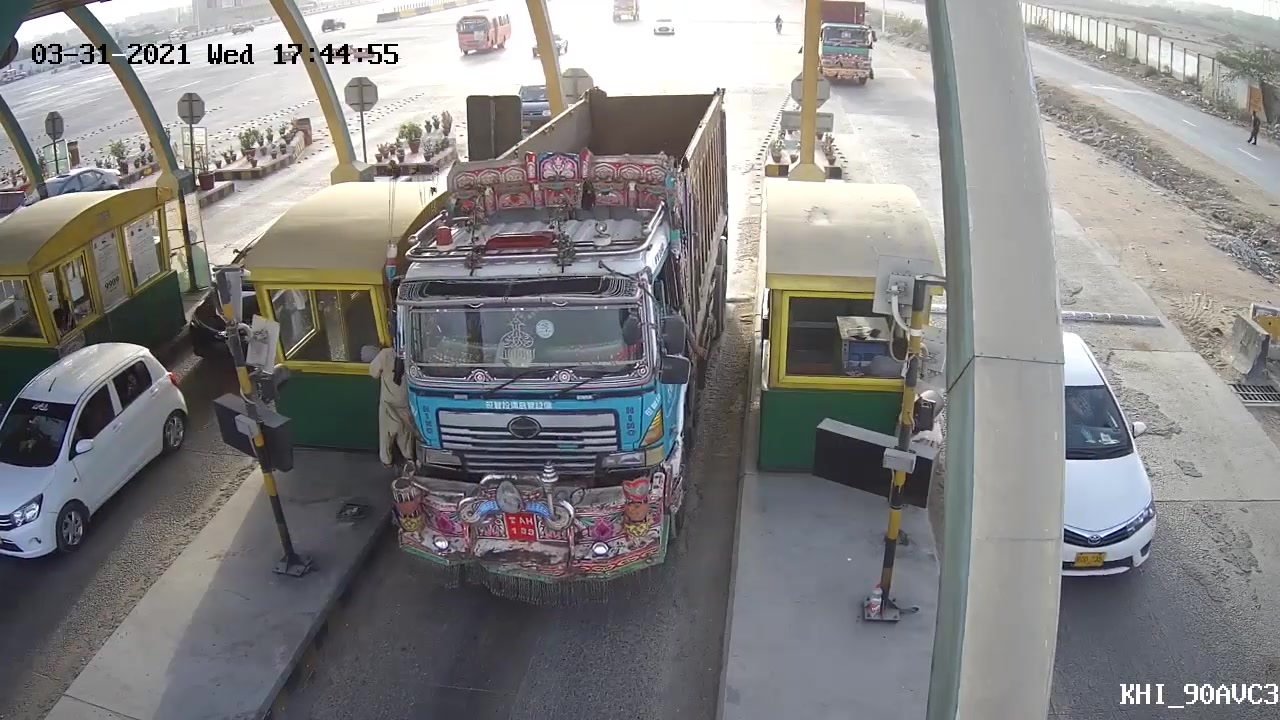F5: (391, 159, 673, 608)
